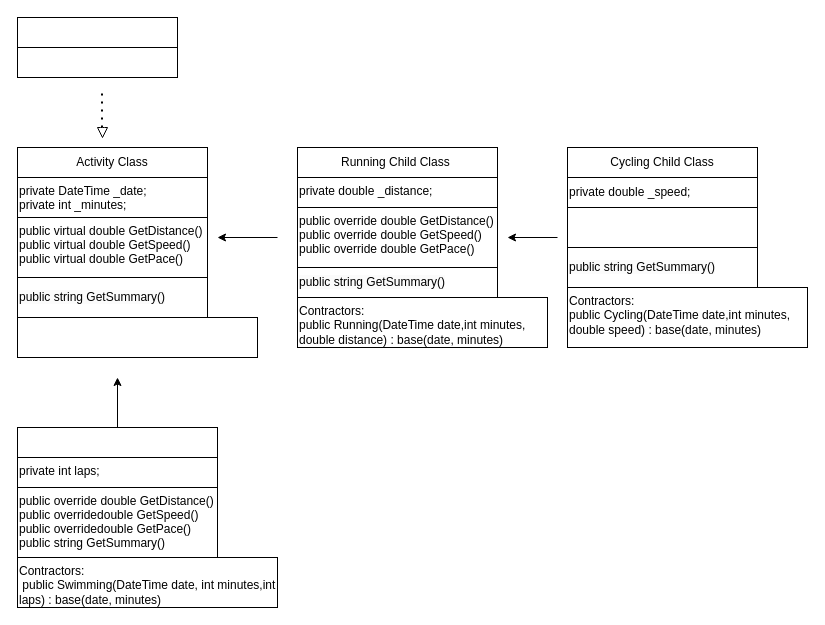
Image size: 825x625. Some labels were removed from this diagram. Here are the shapes that lost their labels. From the top down, the centre of each, then its label:
At [97,32]: "Program Class".
At [97,62]: "static void Main()".
At [662,227]: "public override double GetSpeed() public override double GetPace()".
At [137,337]: "Contractors: public Activity(DateTime date, int minutes){}".
At [117,442]: "Swimming Child Class".
